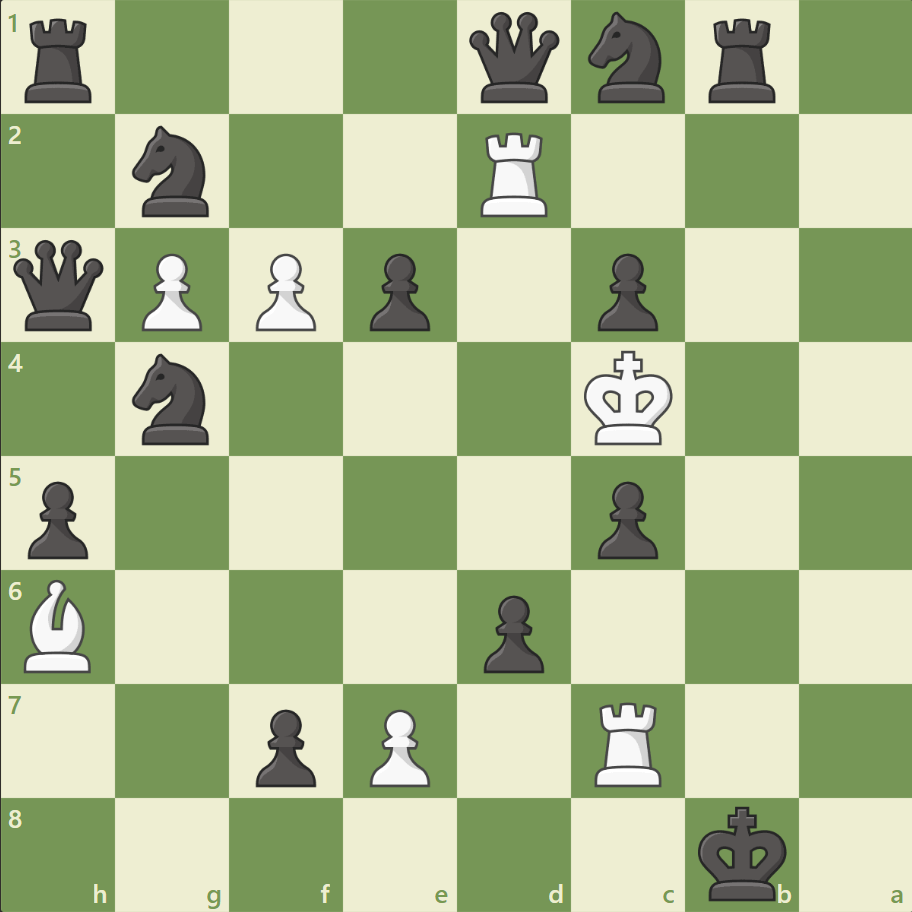B: (17, 574, 101, 676)
K: (579, 344, 679, 452)
P: (247, 246, 322, 337), (133, 246, 208, 337), (361, 700, 435, 791)
R: (587, 693, 670, 790), (473, 125, 556, 222)
k: (692, 798, 792, 906)
n: (124, 348, 222, 450), (124, 121, 222, 223), (579, 7, 676, 110)
p: (247, 700, 322, 791), (474, 586, 549, 677), (20, 473, 95, 564), (588, 473, 662, 564), (588, 246, 662, 337), (361, 246, 435, 337)
q: (10, 236, 109, 335), (464, 9, 563, 108)
r: (700, 12, 783, 109), (19, 12, 102, 109)
